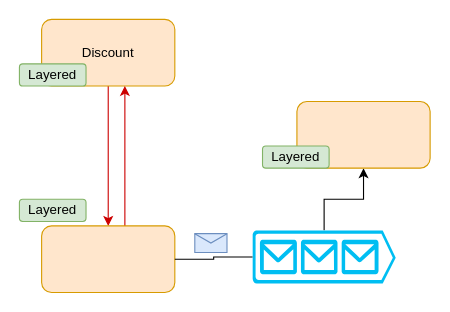
The diagram is 450 pixels wide and 312 high, and some of its shapes have lost their labels. Each missing label, with the centre of its shape:
Basket: [108,258]
Order: [363,134]
